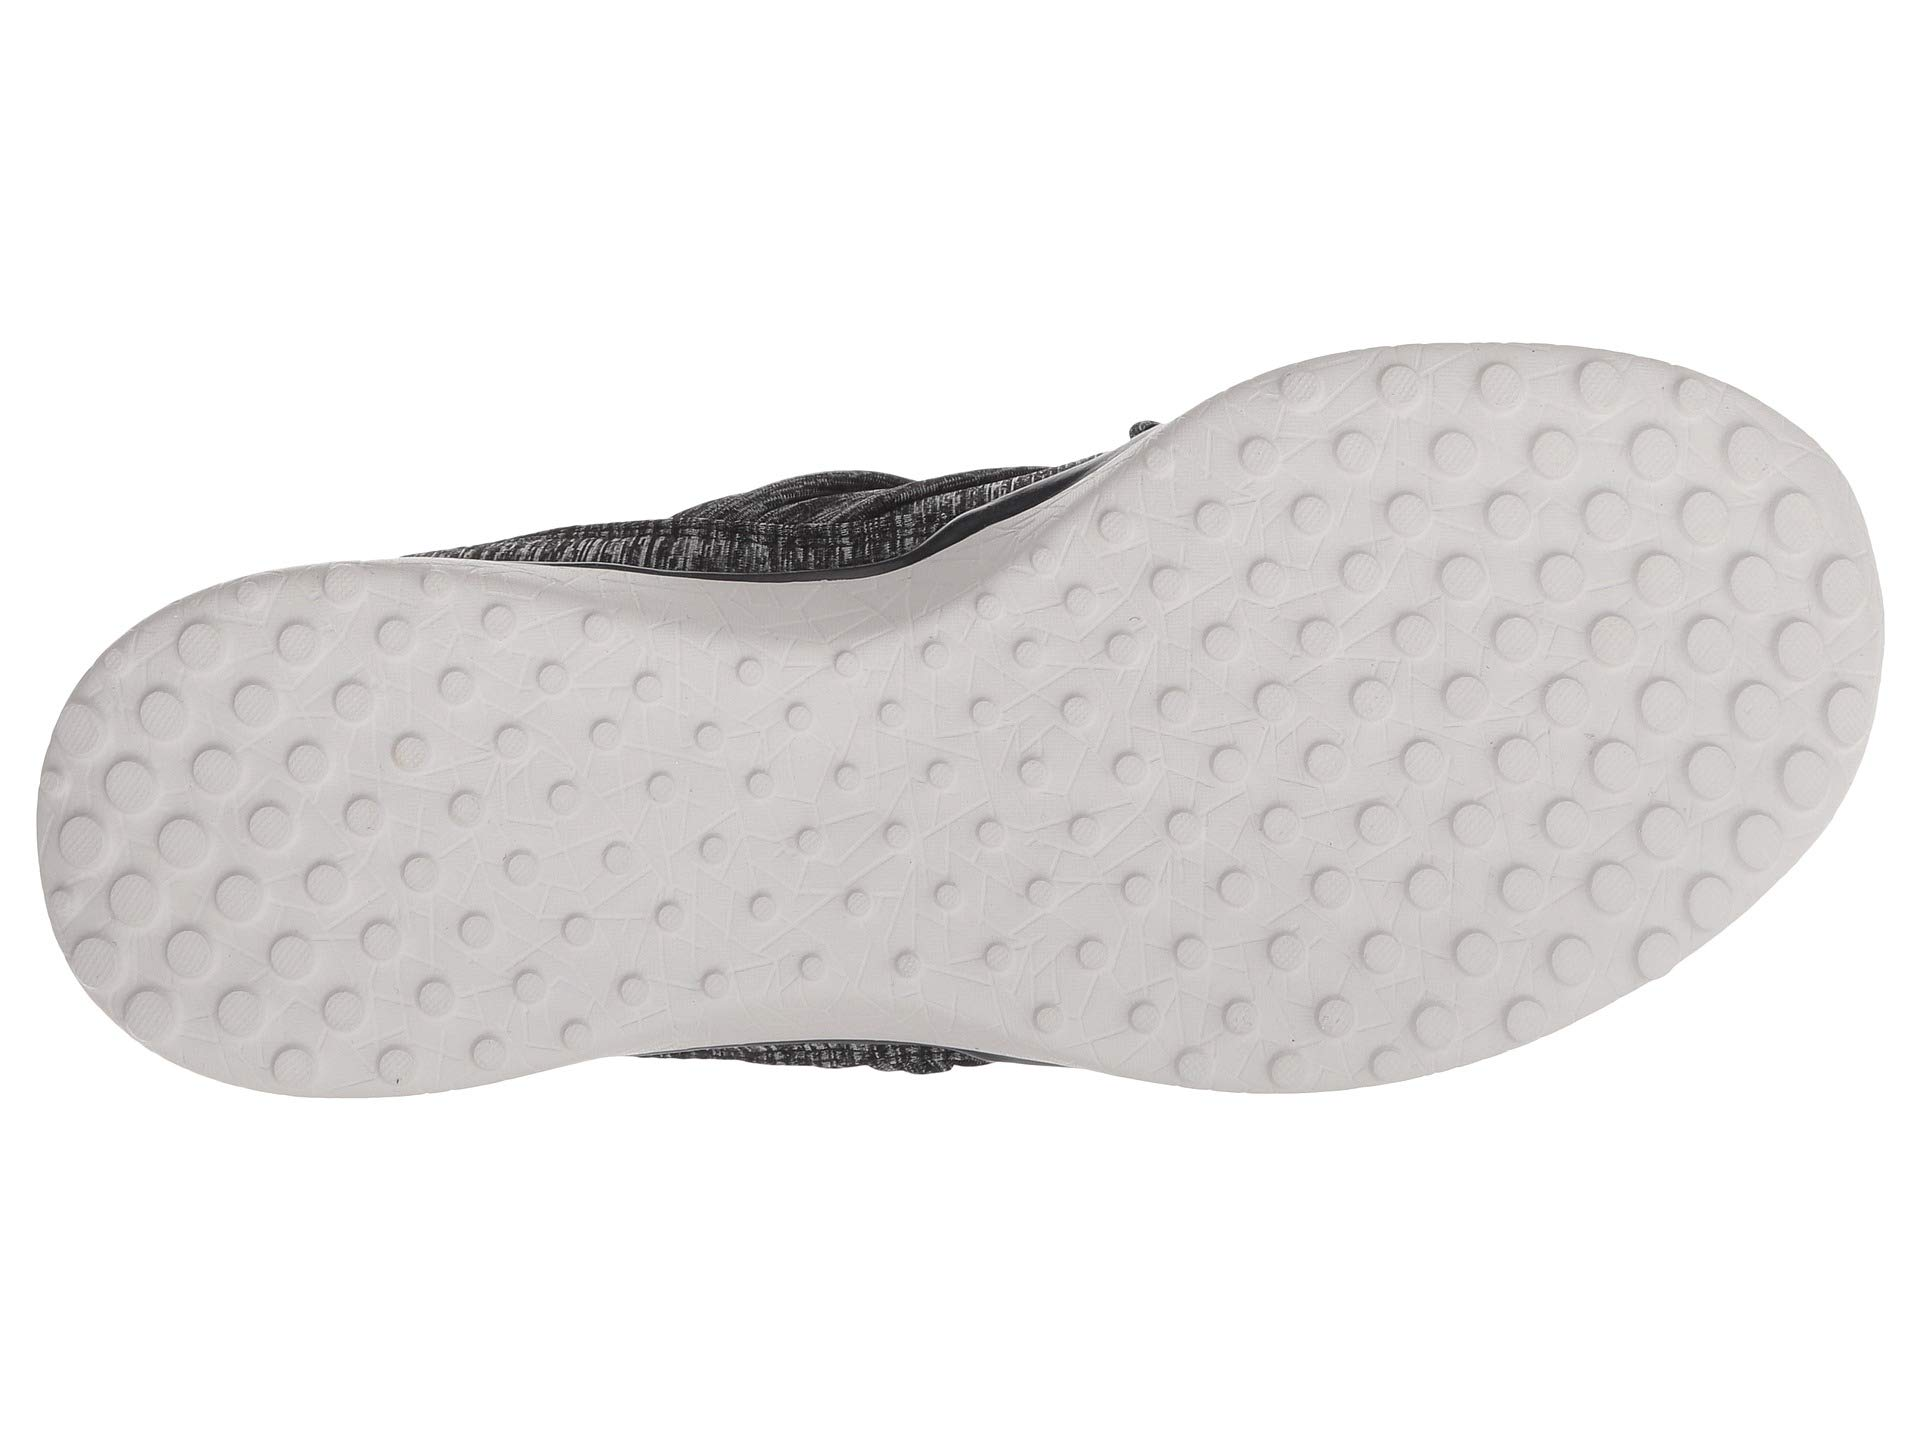circle: (1184, 499, 1678, 945), (163, 712, 497, 1013)
